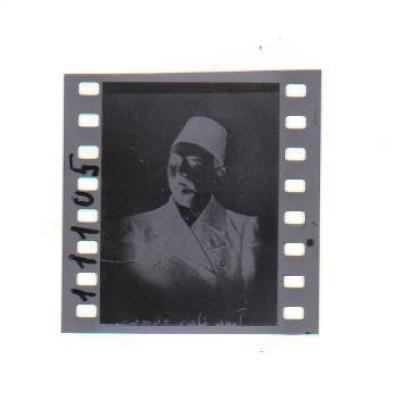photos_negatives: (89, 69, 280, 332)
